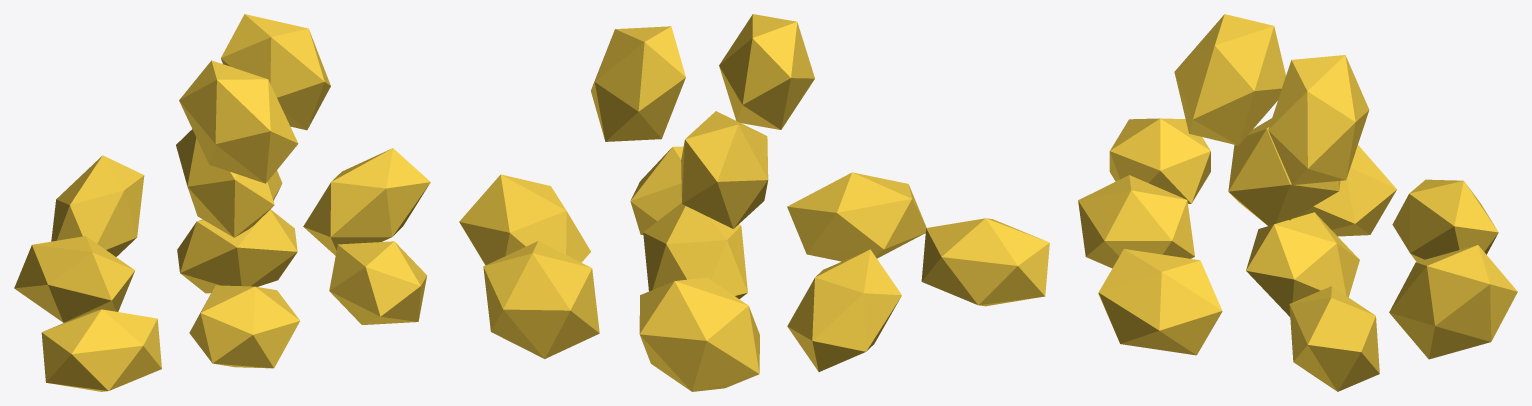
The model's file is FTF_Ingredient_Chopped_Corn.glb.
3 renders of one model, left to right at view 1: azimuth 30°, elevation 25°; view 2: azimuth 150°, elevation 25°; view 3: azimuth 270°, elevation 25°, orthographic. The views are drawn at different scales.
Visible parts, largest first — view 1: Corn_Kernel_00; view 2: Corn_Kernel_00; view 3: Corn_Kernel_00.
Boxes of the visible parts, bbox=[...] form: Corn_Kernel_00: bbox=[14, 14, 430, 391]; Corn_Kernel_00: bbox=[459, 14, 1049, 391]; Corn_Kernel_00: bbox=[1078, 14, 1517, 391].
Bounding box in the file's own units: 0.6925 × 0.39 × 0.5552.
